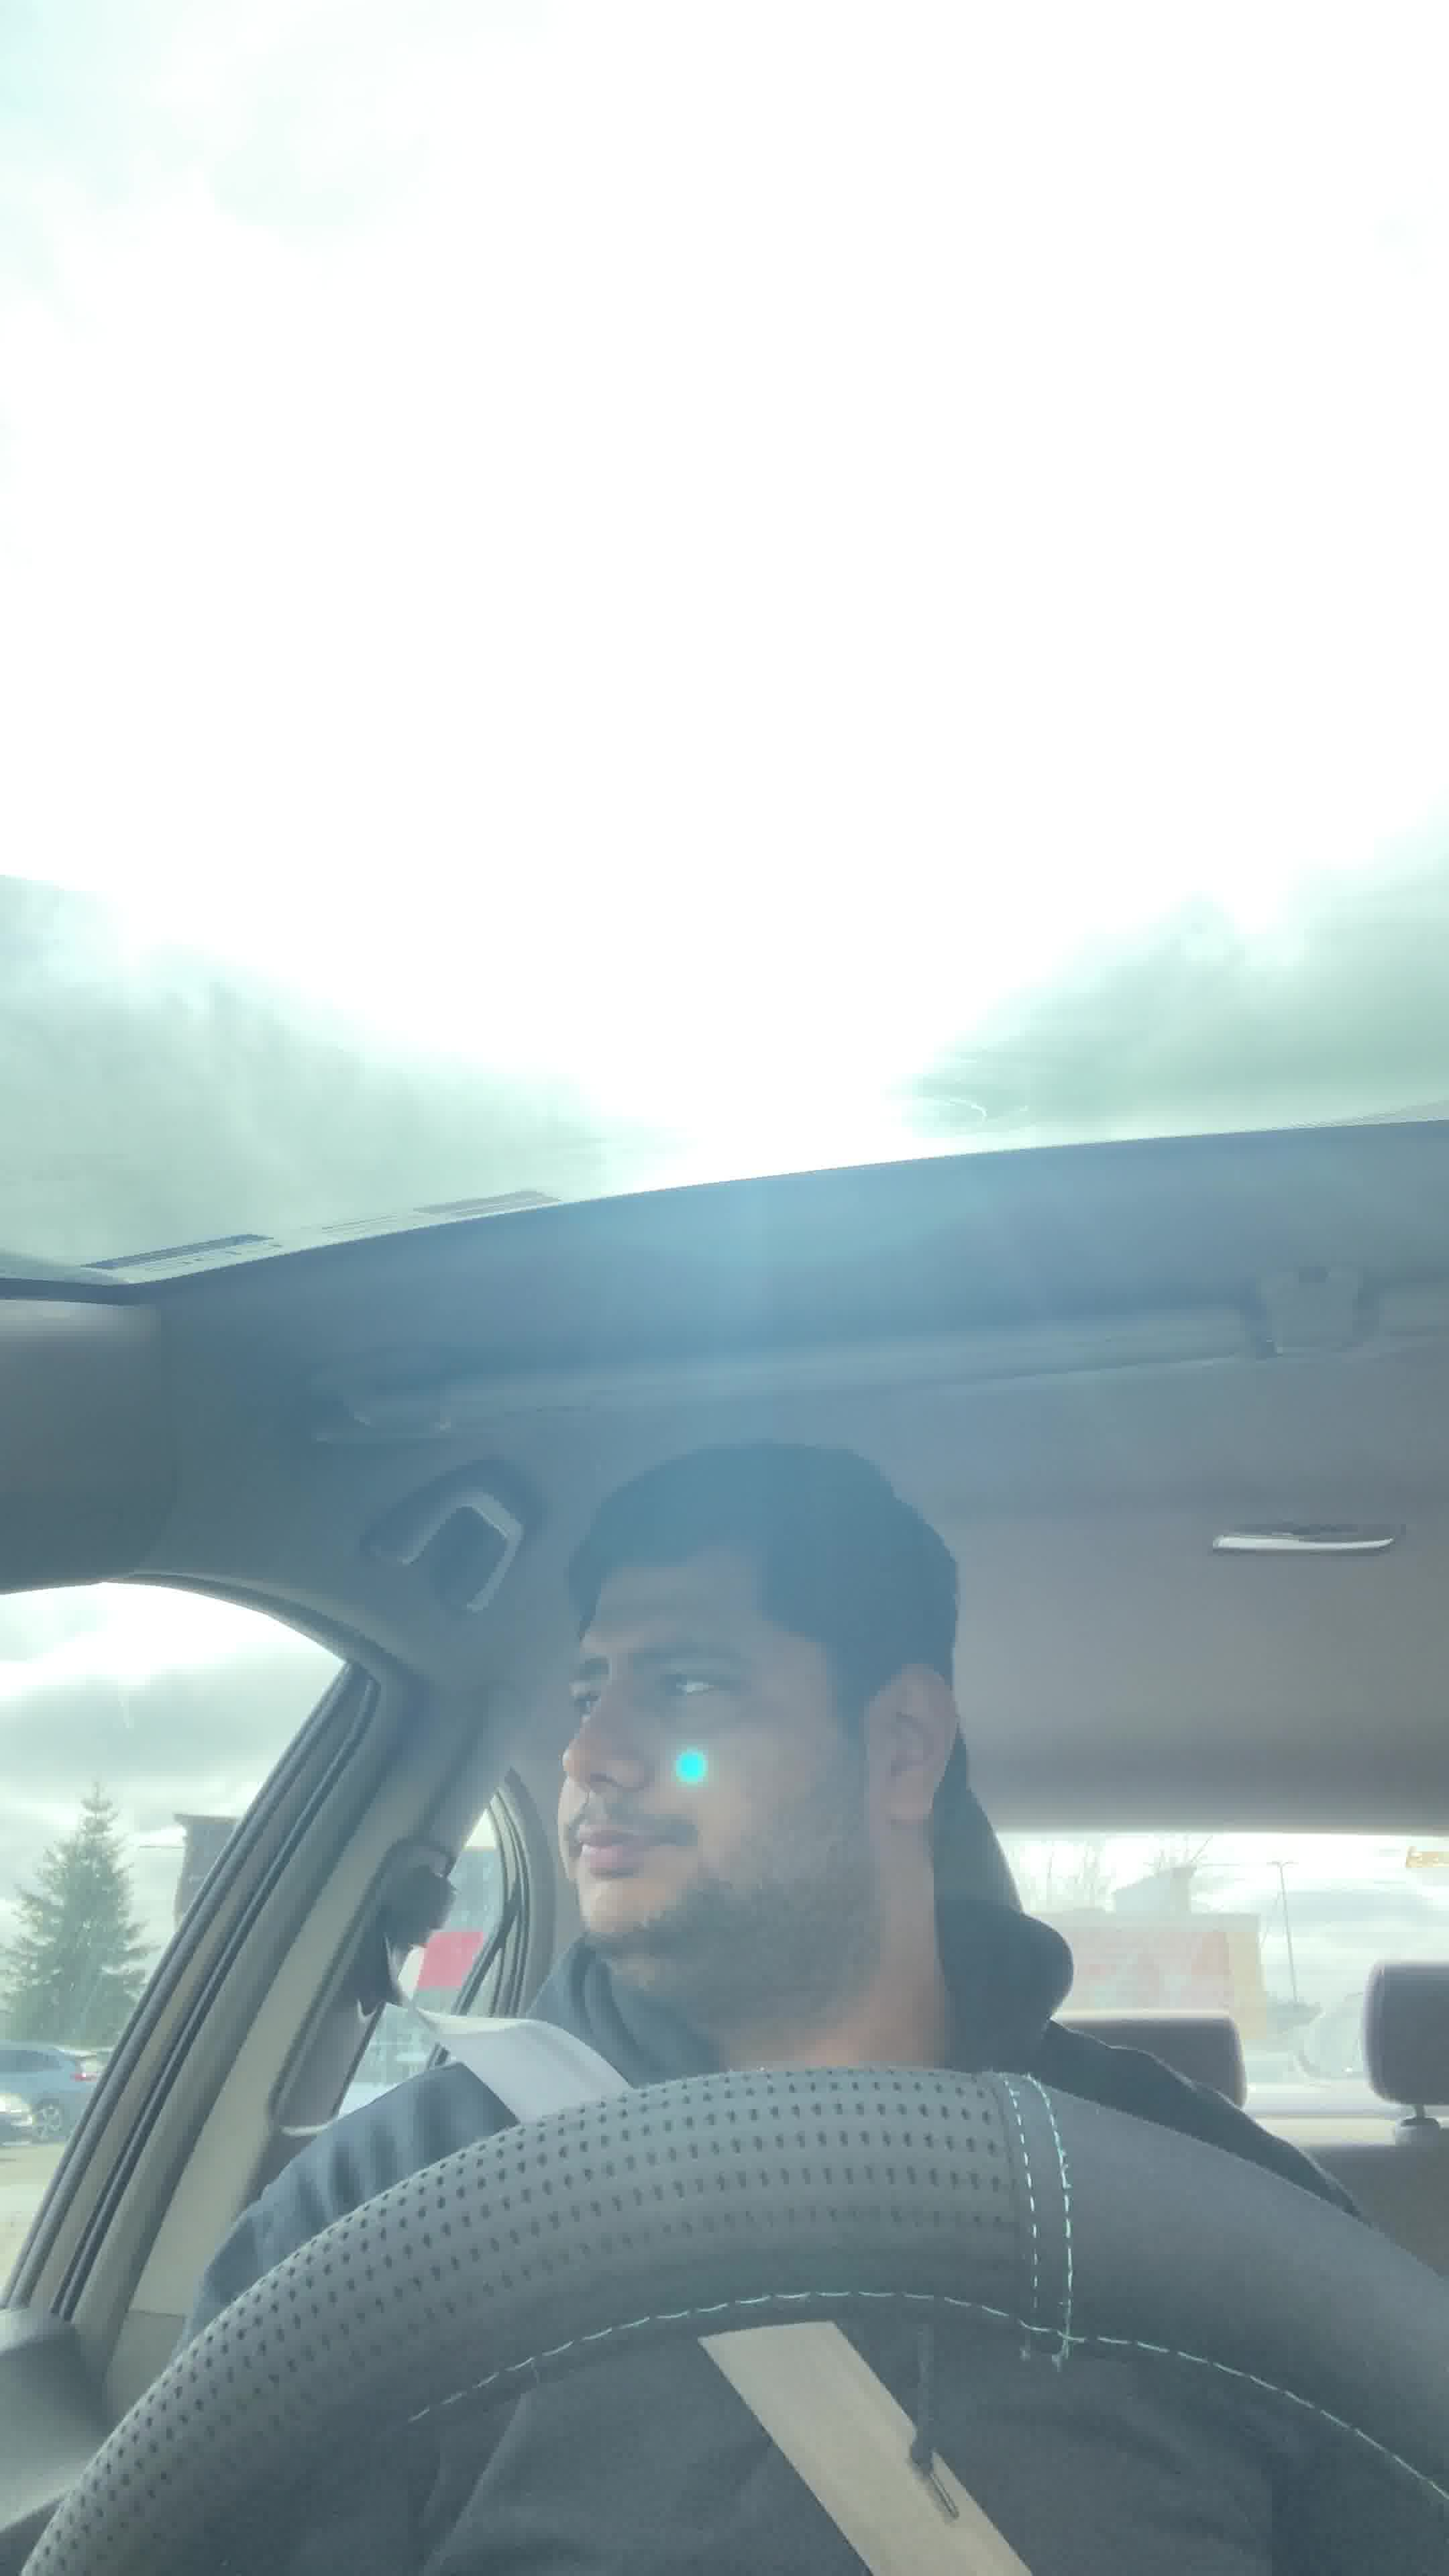inattentive: (131, 1414, 1095, 2072)
seatbelt: (320, 1870, 1104, 2549)
